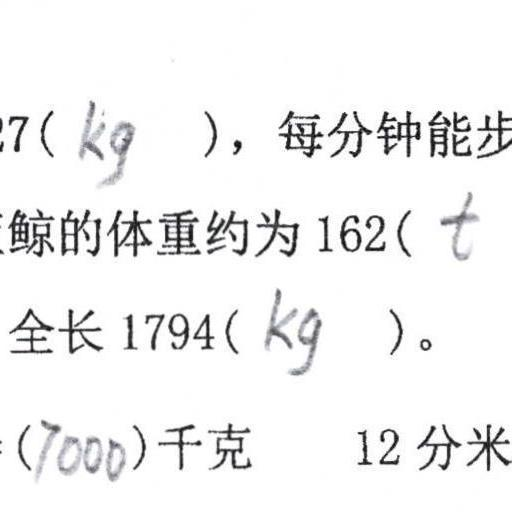ans: (30, 413, 126, 484), (259, 283, 324, 377), (72, 94, 136, 187), (432, 186, 480, 263)
